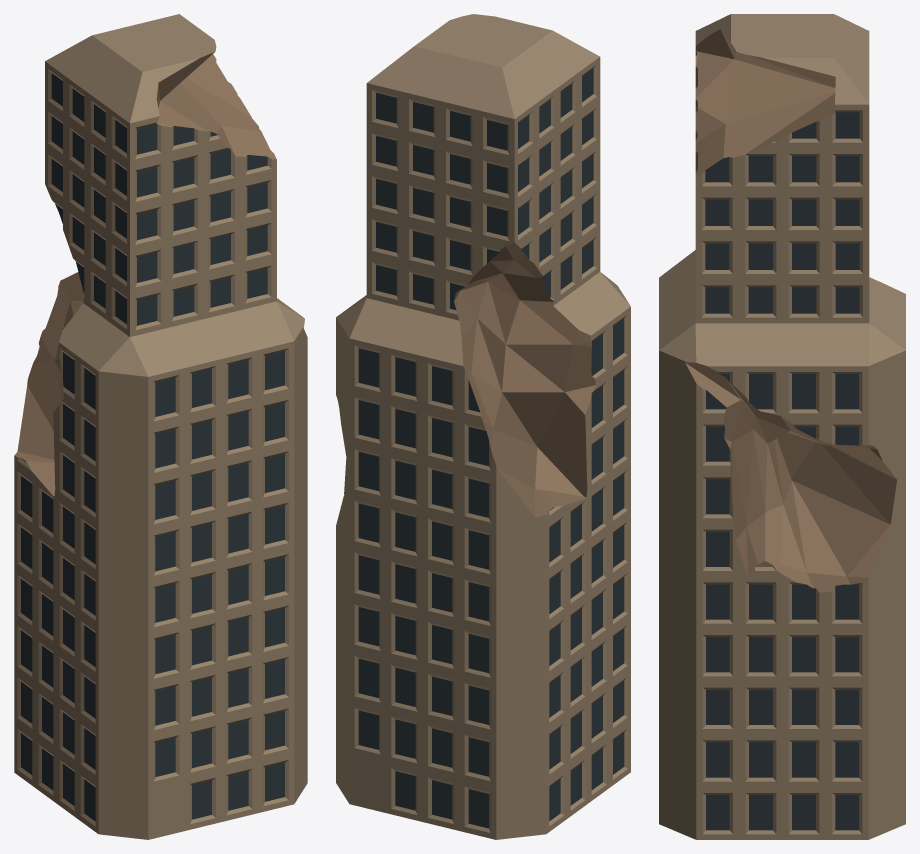
Rendered from LP_PostApoc_BuildingPreset6.fbx.
3 views of the same model, side by side, from view 1: azimuth 30°, elevation 25°; view 2: azimuth 150°, elevation 25°; view 3: azimuth 270°, elevation 25° (orthographic). The views are drawn at different scales.
Parts seen in each view (by area): view 1: BuildingPreset6; view 2: BuildingPreset6; view 3: BuildingPreset6.
Boxes of the visible parts, x1,y1,x2,y2 form: BuildingPreset6: [14, 14, 307, 839]; BuildingPreset6: [336, 14, 630, 839]; BuildingPreset6: [659, 14, 905, 839].
Bounding box in the file's own units: 1218 × 4092 × 1218.
